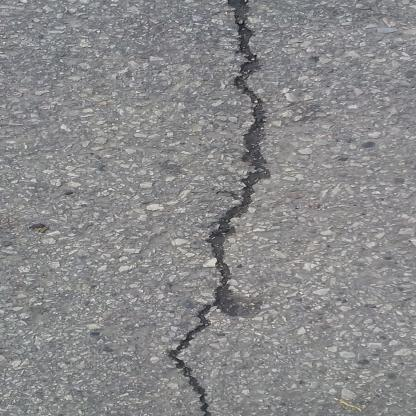Cracks: (98, 0, 272, 416)
